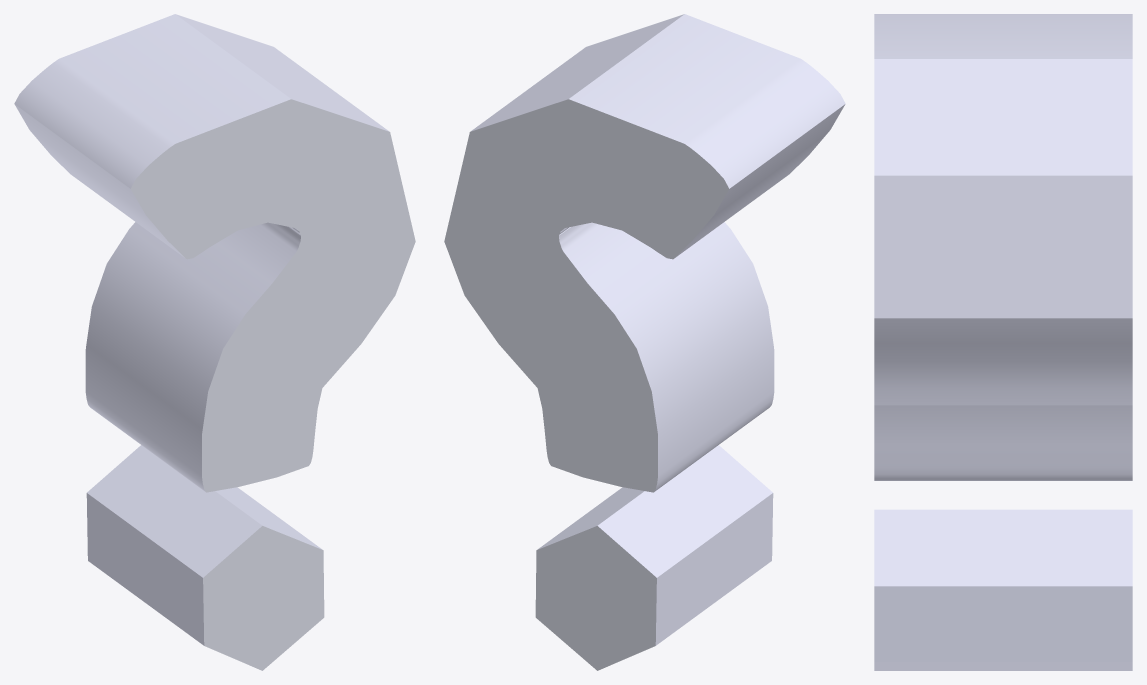
Rendered from b4a1a62c-d476-4c84-84bc-35dcb63a68df.glb.
The picture shows the model from 3 angles, left to right: view 1: azimuth 30°, elevation 25°; view 2: azimuth 150°, elevation 25°; view 3: azimuth 270°, elevation 25°; orthographic projection. The views are drawn at different scales.
Parts seen in each view (by area): view 1: symbol?_Zyzol_Grey; view 2: symbol?_Zyzol_Grey; view 3: symbol?_Zyzol_Grey.
Part boxes in pixels (x1=…): symbol?_Zyzol_Grey: x1=14, y1=14, x2=415, y2=670; symbol?_Zyzol_Grey: x1=444, y1=14, x2=845, y2=670; symbol?_Zyzol_Grey: x1=874, y1=14, x2=1132, y2=670.
Size of what is drawn, in the model's own units: 0.0637 by 0.1205 by 0.045.
Materials: 2 (2 with a texture image).
